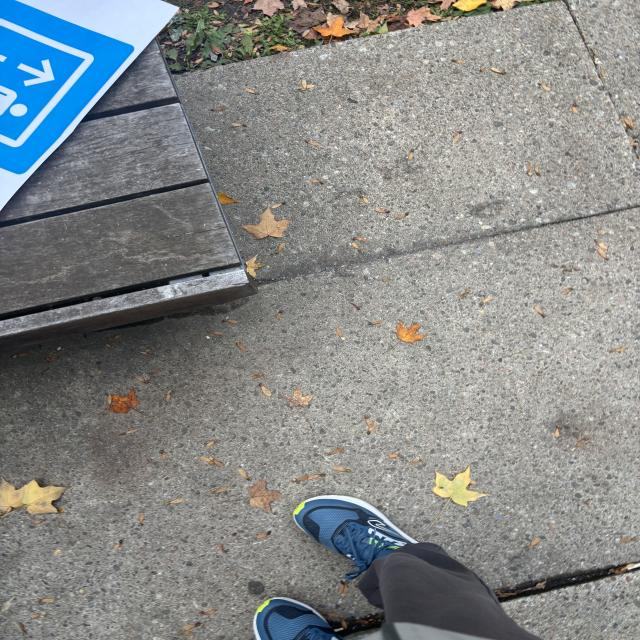elevator: (0, 0, 139, 179)
